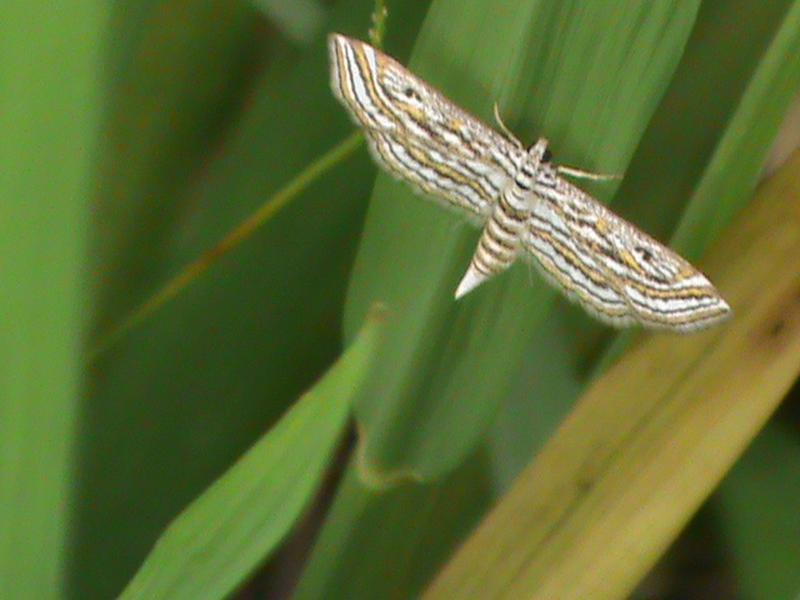Rice_case_worm: (290, 35, 743, 371)
